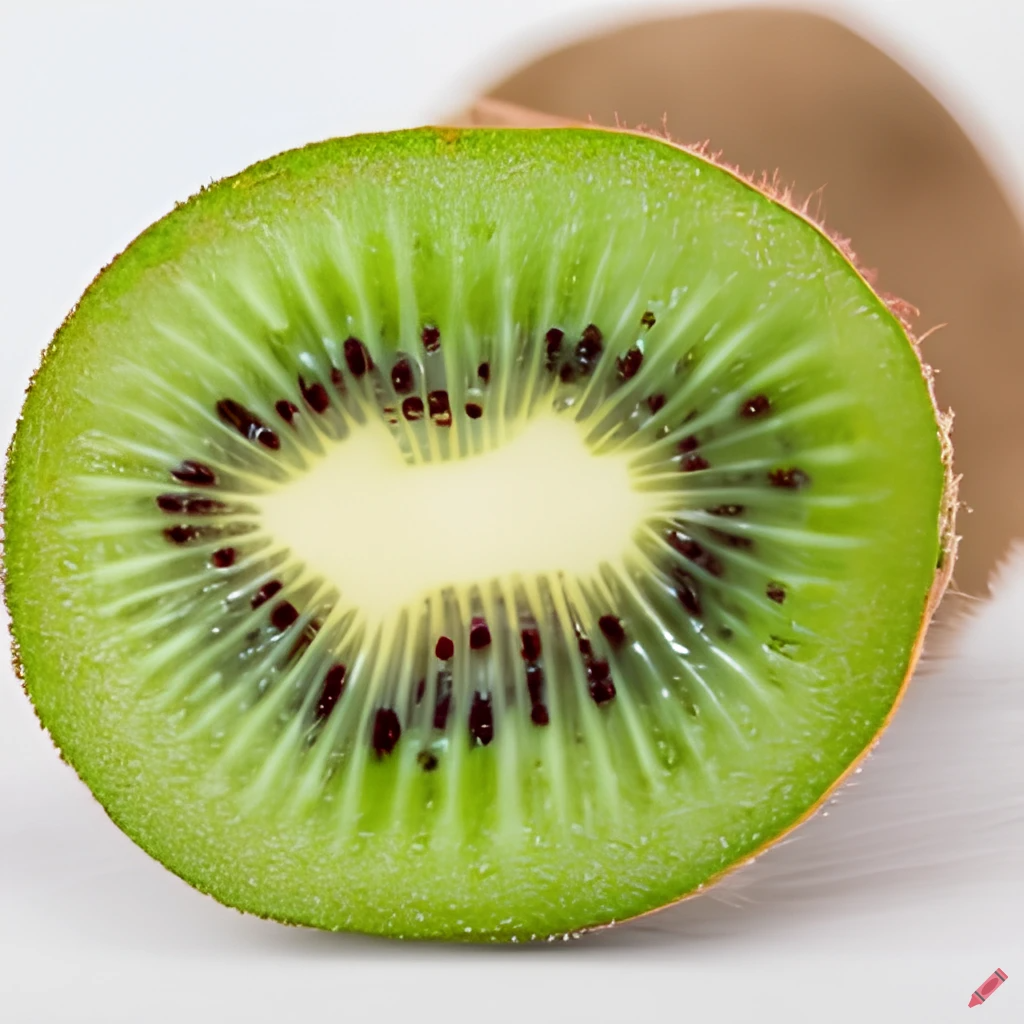Kiwi: (9, 123, 968, 962)
